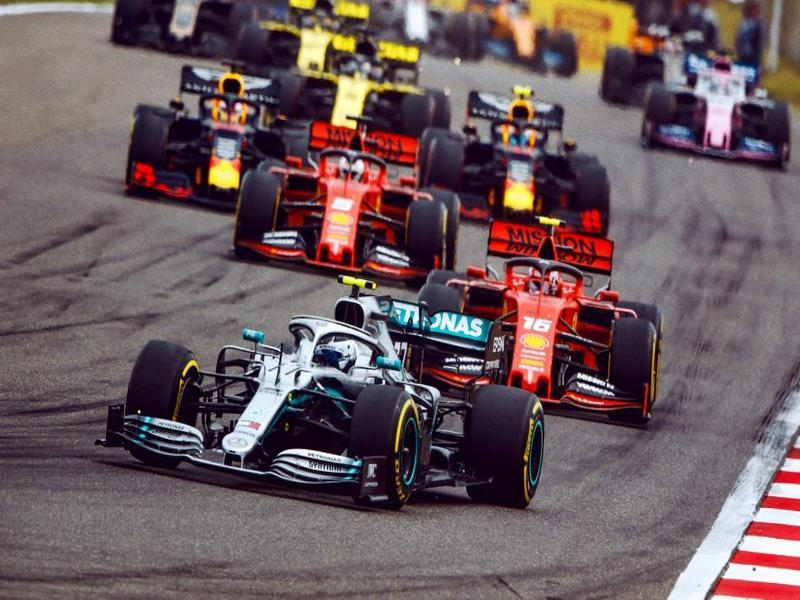racecar: (118, 289, 543, 510), (458, 229, 661, 391), (251, 132, 450, 271), (458, 84, 612, 216), (640, 51, 789, 162)
